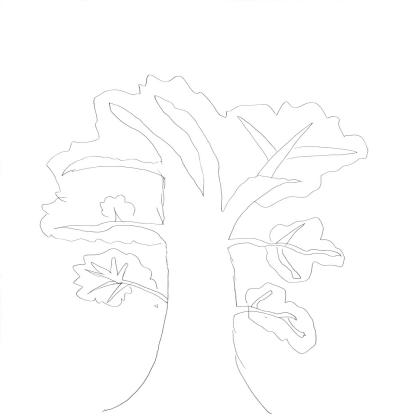branch_sharp: (64, 102, 357, 279)
crown_cloud: (39, 75, 364, 246)
trunk_straight: (160, 246, 240, 357)
